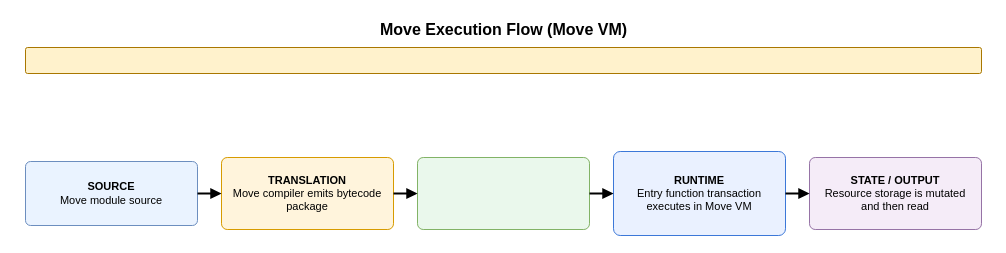
Some shapes in this 1006 by 253 pixel diagram are drawn without their labels. Here are the shapes that lost their labels. From the top down, the centre of each, then its label:
point (503, 60): Translation layers before runtime: 1
point (503, 193): DEPLOYMENT Publish transaction stores module package
